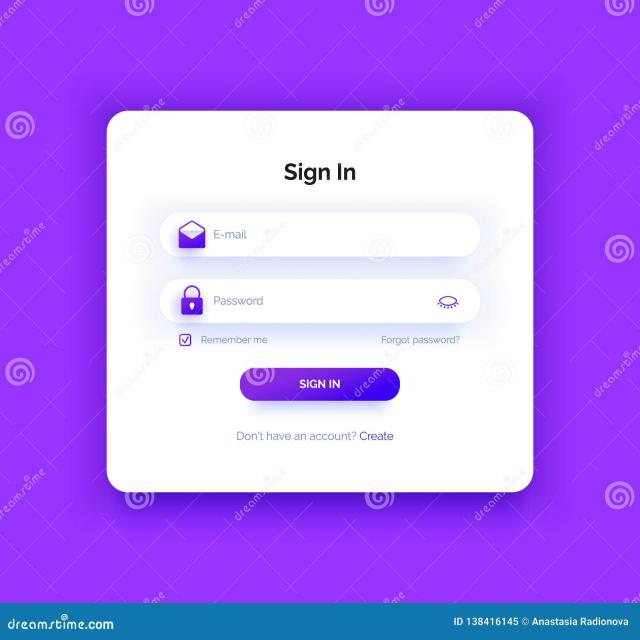Button: (237, 365, 404, 403)
Check-box: (175, 330, 276, 353)
Container: (102, 102, 537, 501)
Input-field: (155, 204, 483, 268), (159, 271, 485, 328)
Text: (234, 419, 398, 453), (276, 150, 362, 190)
